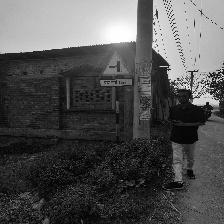Side-road-left: (100, 51, 133, 87)
